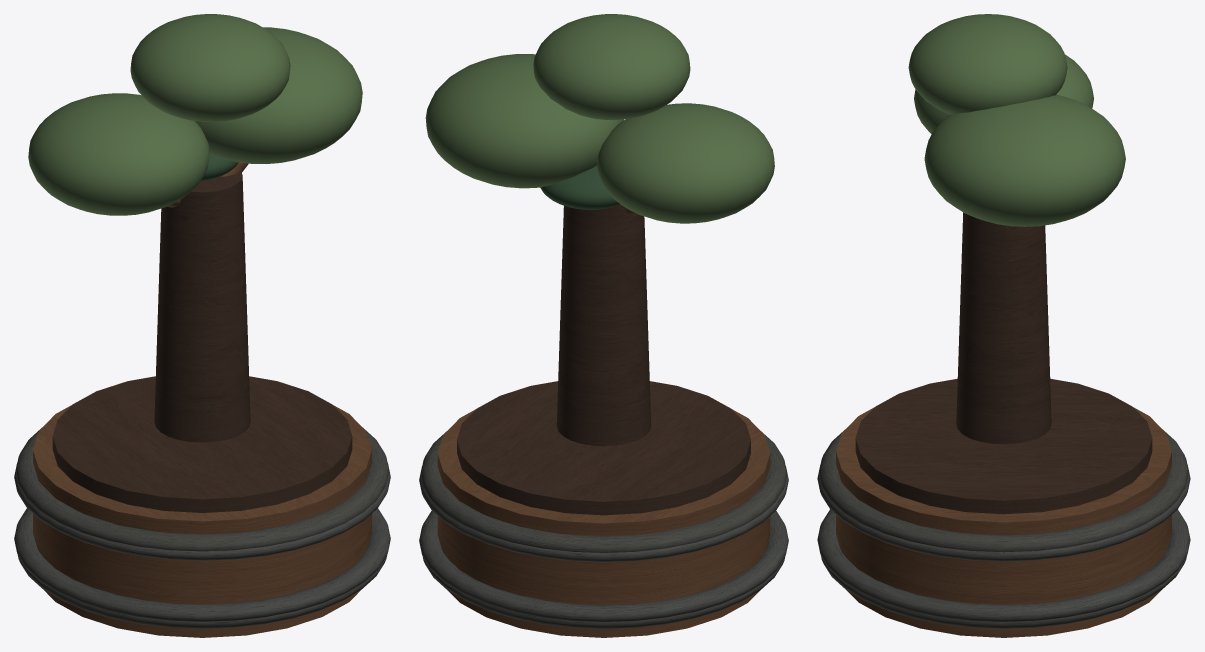
Rendered from street_planter.glb.
3 renders of one model, left to right at view 1: azimuth 30°, elevation 25°; view 2: azimuth 150°, elevation 25°; view 3: azimuth 270°, elevation 25°, orthographic.
Parts seen in each view (by area): view 1: street_planter; view 2: street_planter; view 3: street_planter.
Boxes of the visible parts, box(x1,y1,x2,y2) form: street_planter: box(14, 14, 390, 637); street_planter: box(419, 14, 788, 637); street_planter: box(817, 14, 1190, 637).
Size of the model in its own units: 1 by 1.6 by 1.
1 material, 1 textured.
